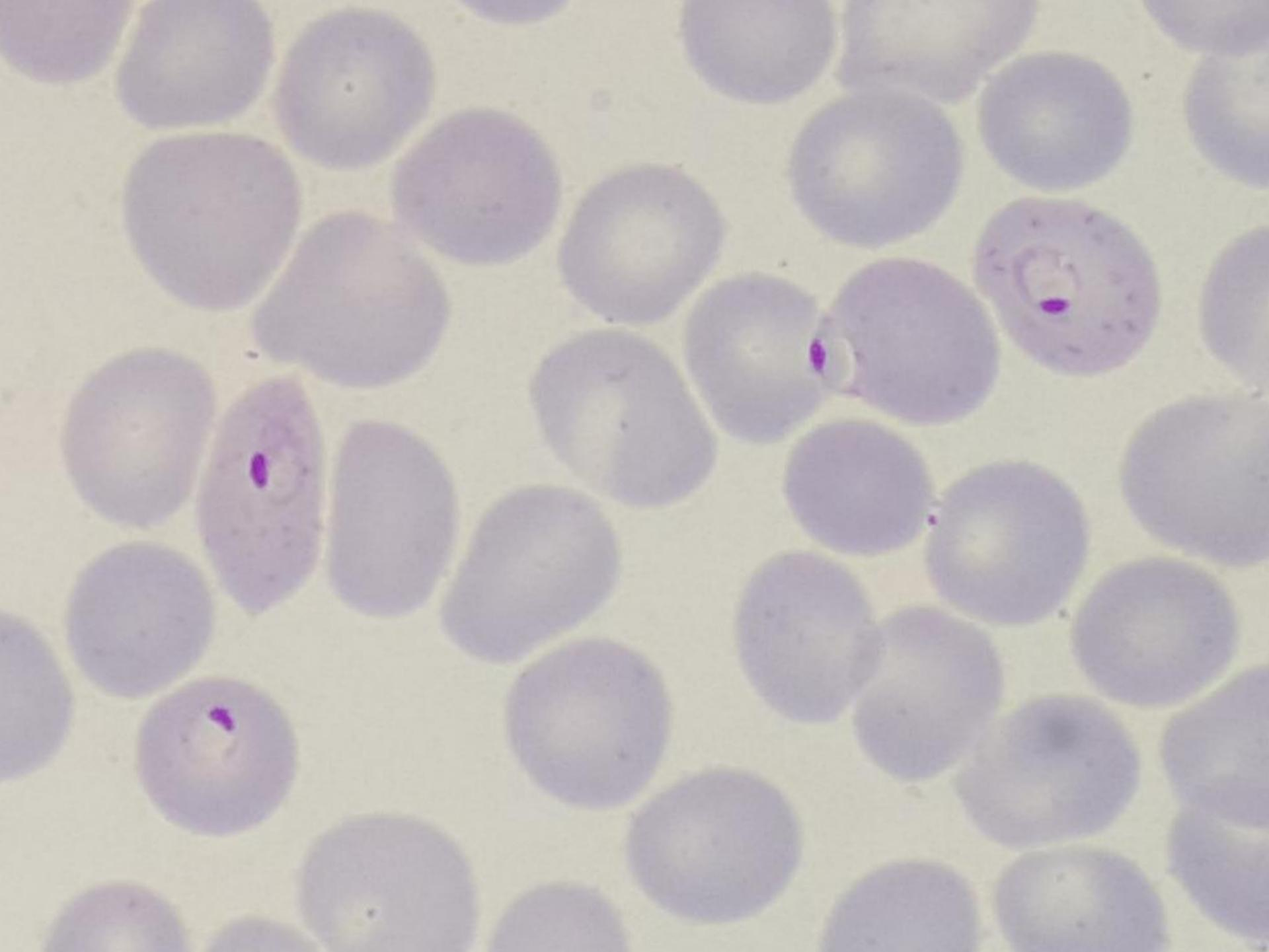Infected: (977, 199, 1160, 378), (808, 260, 997, 425), (202, 381, 330, 615), (132, 676, 297, 834)
Uninfected: (256, 213, 448, 389), (446, 476, 621, 663), (532, 337, 720, 504), (129, 132, 300, 311), (56, 346, 214, 530), (511, 641, 673, 811), (962, 691, 1143, 842), (388, 111, 561, 267), (934, 453, 1087, 629), (844, 611, 1004, 778), (633, 772, 808, 923), (737, 549, 889, 719), (272, 13, 438, 168), (791, 93, 959, 245), (296, 815, 481, 952), (686, 276, 835, 446), (1122, 397, 1269, 569), (329, 418, 457, 614), (63, 542, 220, 698), (1081, 555, 1242, 707), (555, 164, 717, 315), (979, 53, 1135, 185), (111, 0, 274, 125), (785, 425, 932, 561), (1003, 851, 1169, 952), (686, 0, 831, 103)
